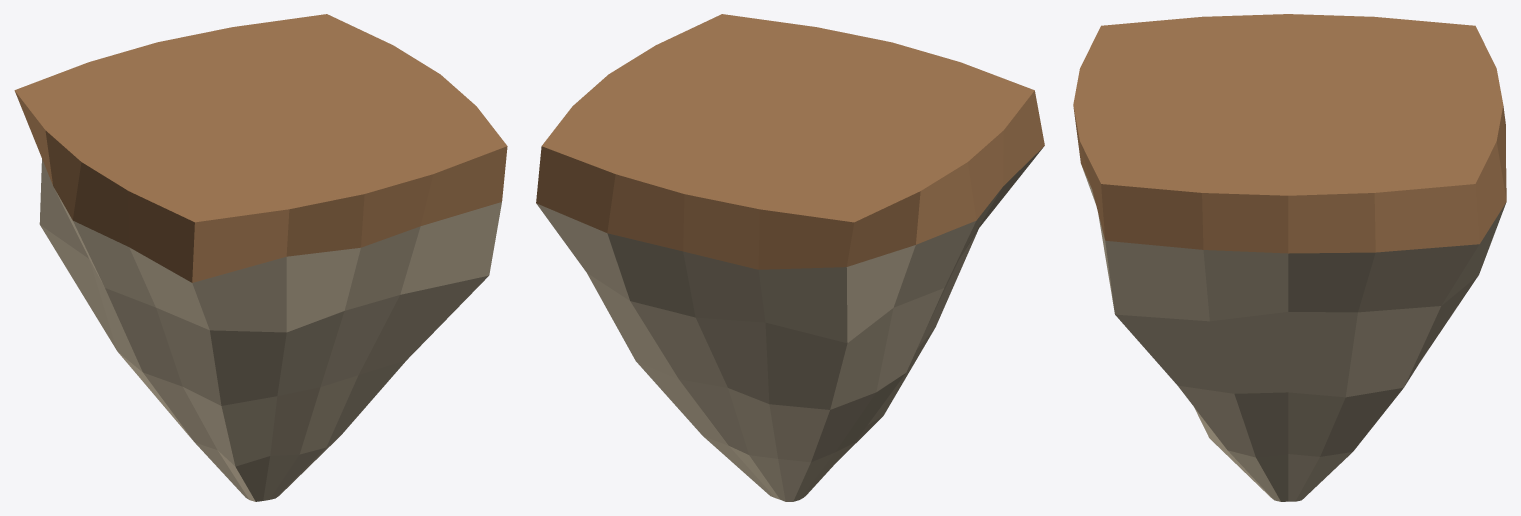
Rendered from island_base.glb.
The picture shows the model from 3 angles, left to right: view 1: azimuth 30°, elevation 25°; view 2: azimuth 150°, elevation 25°; view 3: azimuth 270°, elevation 25°; orthographic projection. The views are drawn at different scales.
Parts seen in each view (by area): view 1: IslandBase; view 2: IslandBase; view 3: IslandBase.
Part boxes in pixels (box(x1,y1,x2,y2)): IslandBase: box(14, 14, 507, 501); IslandBase: box(536, 14, 1044, 501); IslandBase: box(1073, 14, 1506, 501).
Size of the model in its own units: 1.02 by 1 by 1.01.
